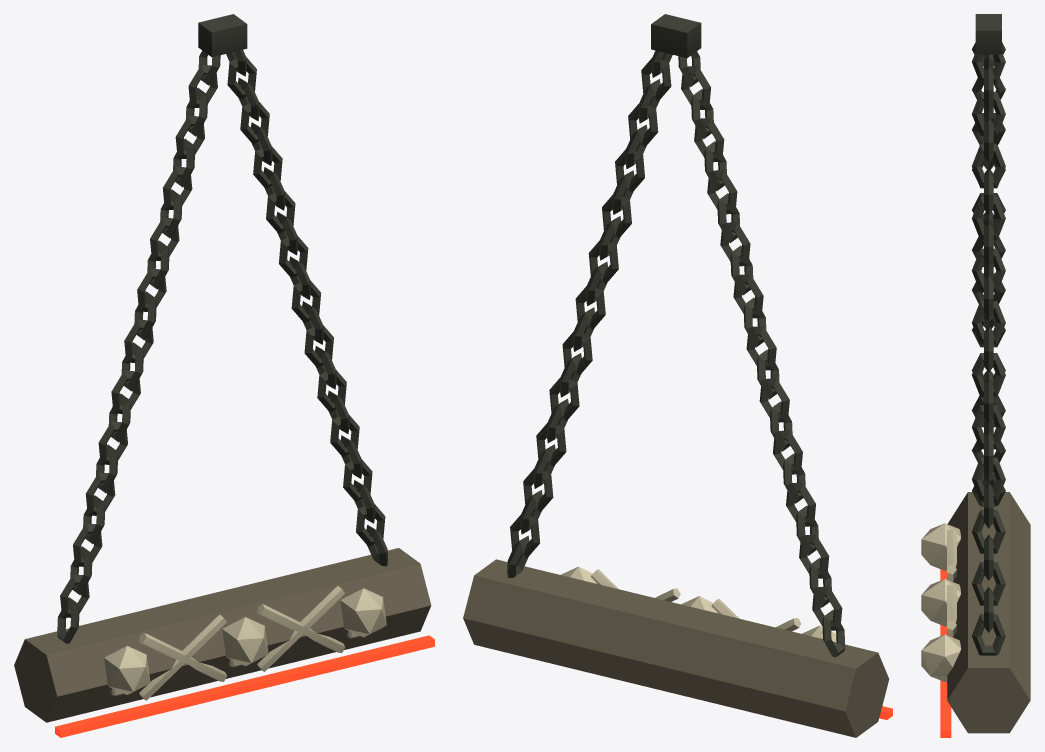
Rendered from hanging_blade_or_beam.glb.
3 renders of one model, left to right at view 1: azimuth 30°, elevation 25°; view 2: azimuth 150°, elevation 25°; view 3: azimuth 270°, elevation 25°, orthographic. The views are drawn at different scales.
Parts seen in each view (by area): view 1: swing_mesh; view 2: swing_mesh; view 3: swing_mesh.
Part boxes in pixels (x1,y1,x2,y2): swing_mesh: (14,14,434,737); swing_mesh: (463,14,892,737); swing_mesh: (921,14,1030,737).
Bounding box in the file's own units: 1.9 × 3.16 × 0.4972.
